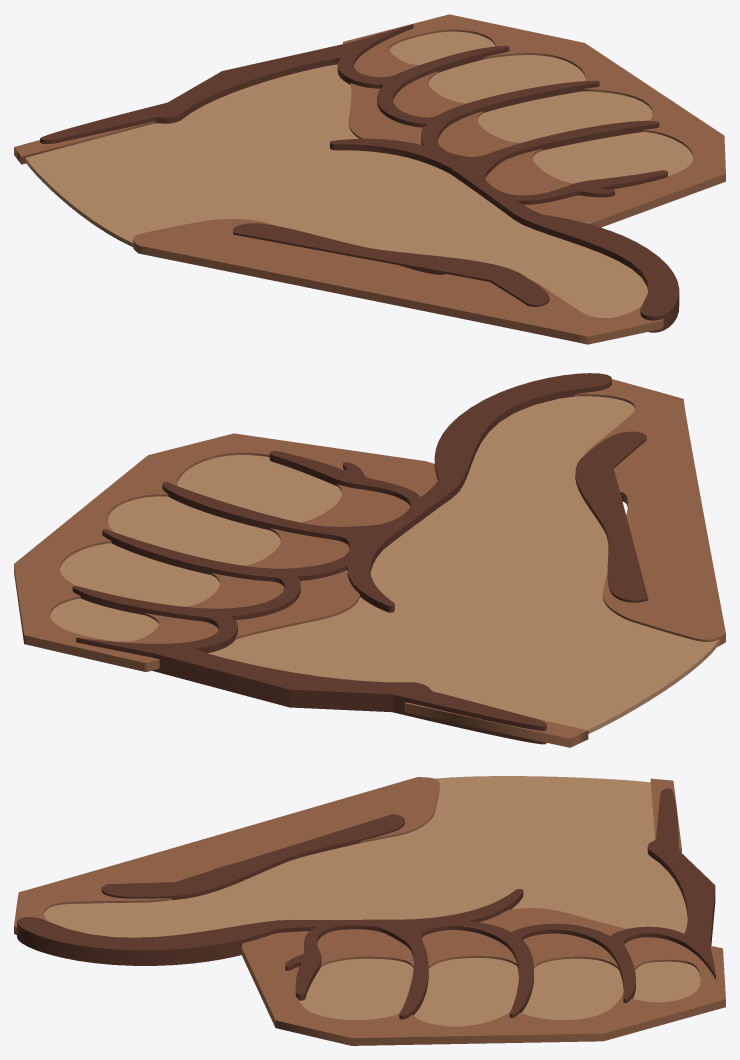
Rendered from emoji_u1f44e_1f3fd.glb.
3 renders of one model, top to bottom at view 1: azimuth 30°, elevation 25°; view 2: azimuth 150°, elevation 25°; view 3: azimuth 270°, elevation 25°, orthographic. The views are drawn at different scales.
Visible parts, largest first — view 1: emoji_u1f44e_1f3fd; view 2: emoji_u1f44e_1f3fd; view 3: emoji_u1f44e_1f3fd.
Boxes of the visible parts, bbox=[...] form: emoji_u1f44e_1f3fd: bbox=[14, 14, 725, 344]; emoji_u1f44e_1f3fd: bbox=[14, 373, 725, 747]; emoji_u1f44e_1f3fd: bbox=[14, 776, 725, 1045].
Bounding box in the file's own units: 0.0292 × 0.0008 × 0.0332.
